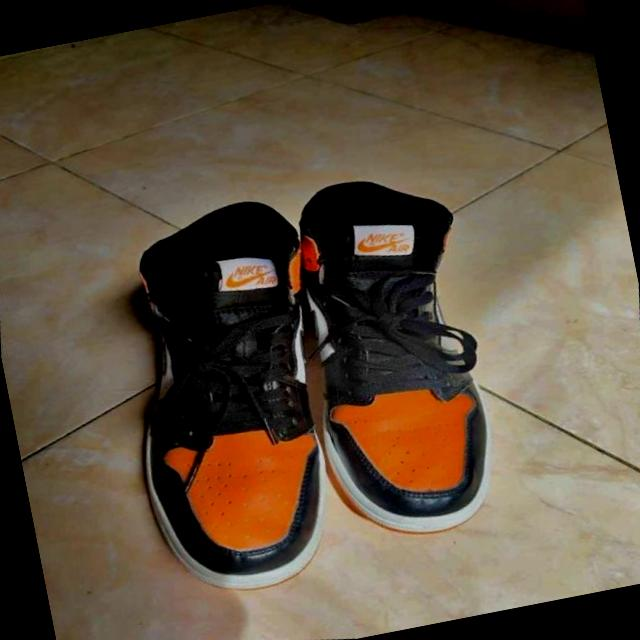nike_fake_jordan: (66, 164, 402, 627), (241, 146, 550, 564)
